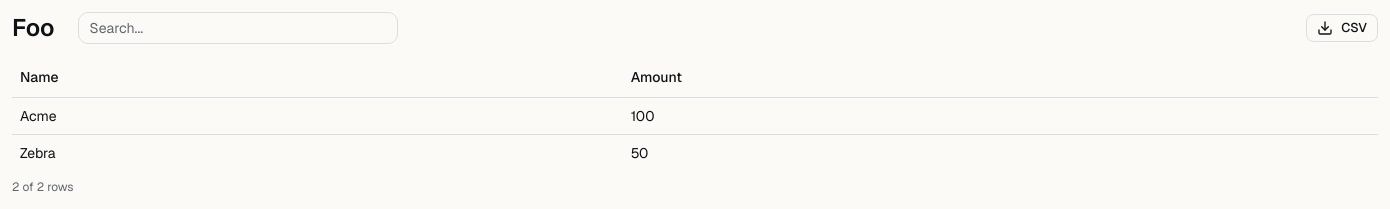
DataGrid › filters by search input
In the field with placeholder "Search...": (238, 28) x1=78 y1=12 x2=398 y2=44, type "zebra"
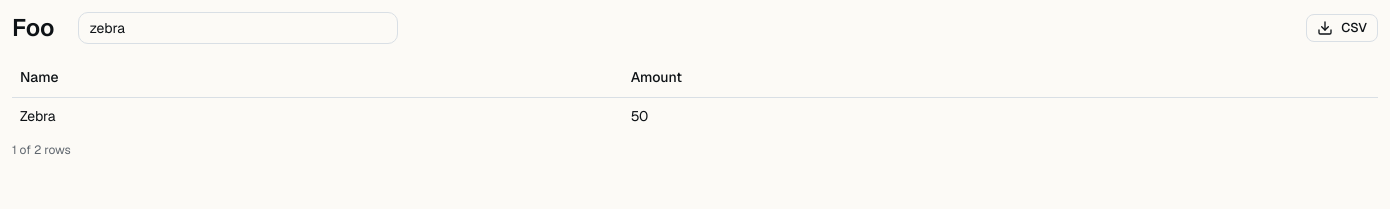
Expected: the text "Zebra" is shown, x1=12 y1=97 x2=623 y2=134
Expected: the text "Acme" is gone
